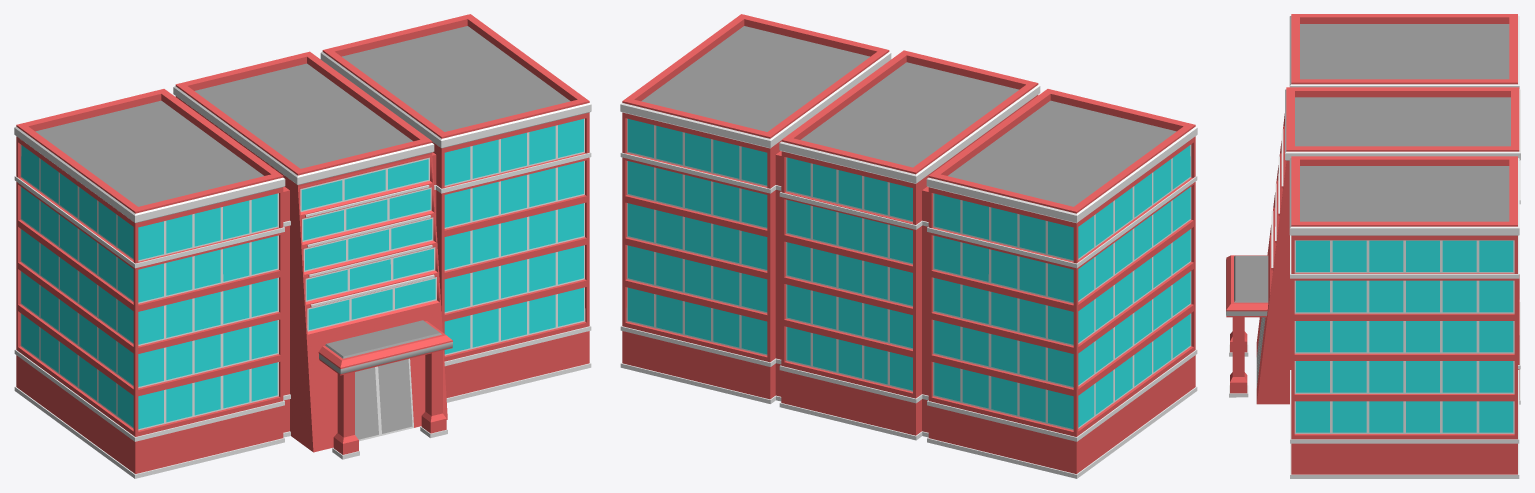
Rendered from SM_House_11_02.FBX.
3 renders of one model, left to right at view 1: azimuth 30°, elevation 25°; view 2: azimuth 150°, elevation 25°; view 3: azimuth 270°, elevation 25°, orthographic. The views are drawn at different scales.
Parts seen in each view (by area): view 1: SM_House_11_02; view 2: SM_House_11_02; view 3: SM_House_11_02.
Part boxes in pixels (left/top/right/bottom): SM_House_11_02: left=14, top=14, right=591, bottom=478; SM_House_11_02: left=620, top=14, right=1197, bottom=478; SM_House_11_02: left=1226, top=14, right=1520, bottom=478.
Bounding box in the file's own units: 11.71 × 6.55 × 6.88.
1 material, 1 textured.
